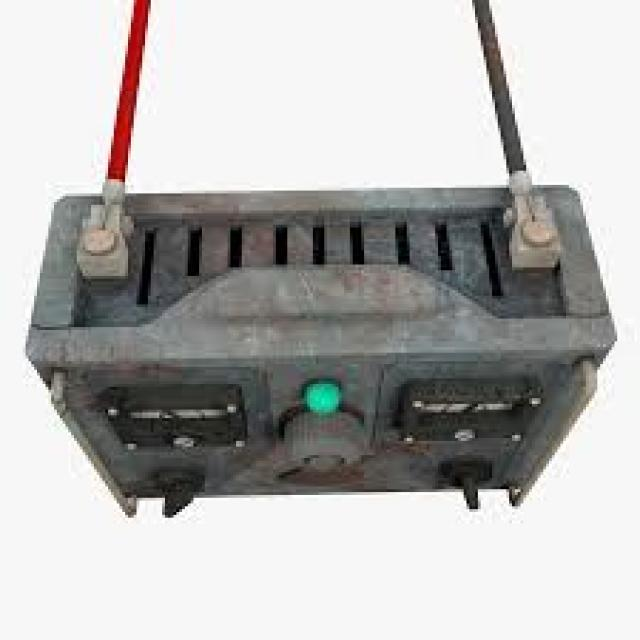hazard: (26, 183, 613, 534)
